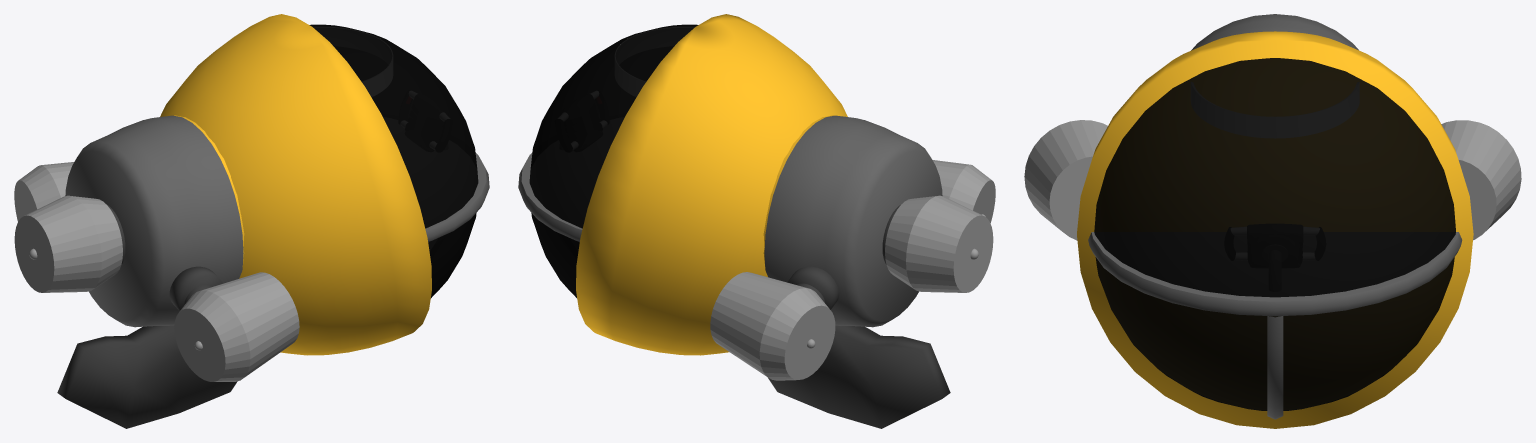
File: SubmarinePanoramicScreenUIBottom.glb
3 views of the same model, side by side, from view 1: azimuth 30°, elevation 25°; view 2: azimuth 150°, elevation 25°; view 3: azimuth 270°, elevation 25° (orthographic). The views are drawn at different scales.
Parts seen in each view (by area): view 1: Cylinder.002; view 2: Cylinder.002; view 3: Cylinder.002.
Boxes of the visible parts, x1=… form: Cylinder.002: x1=14, y1=14, x2=489, y2=428; Cylinder.002: x1=518, y1=14, x2=995, y2=428; Cylinder.002: x1=1024, y1=14, x2=1521, y2=428.
Size of the model in its own units: 3.15 by 2.42 by 2.69.
